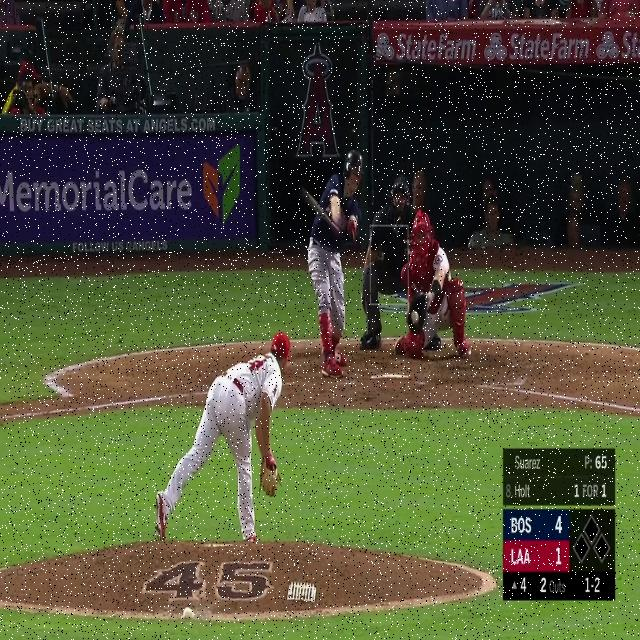baseball: (412, 310, 419, 324)
